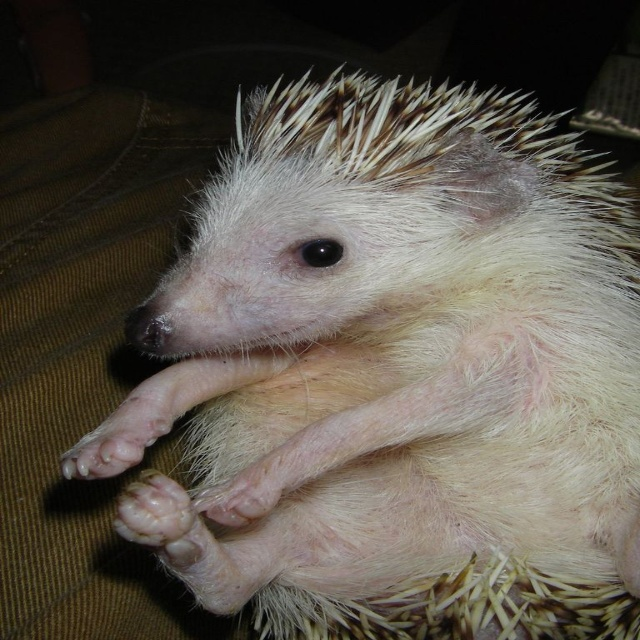Hedgehog: (59, 61, 639, 640)
